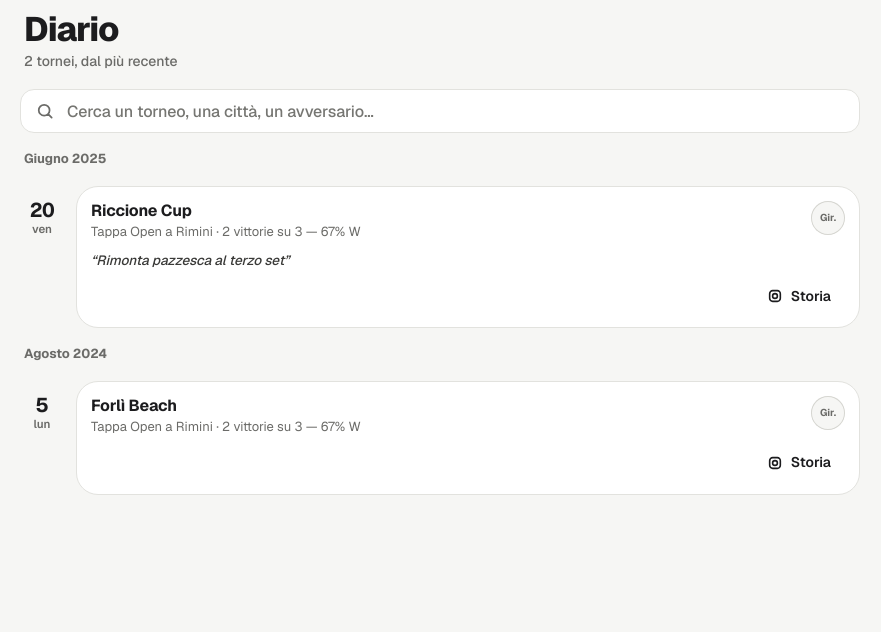
Test: Diario — sottotitolo con la ricerca › conta i risultati e ripete il termine
The image size is (881, 632).
Expected: the link "Riccione Cup" is shown, [91,200,192,221]
Click the search field named "Cerca nel diario".
click(435, 111)  # box [65,90,805,132]
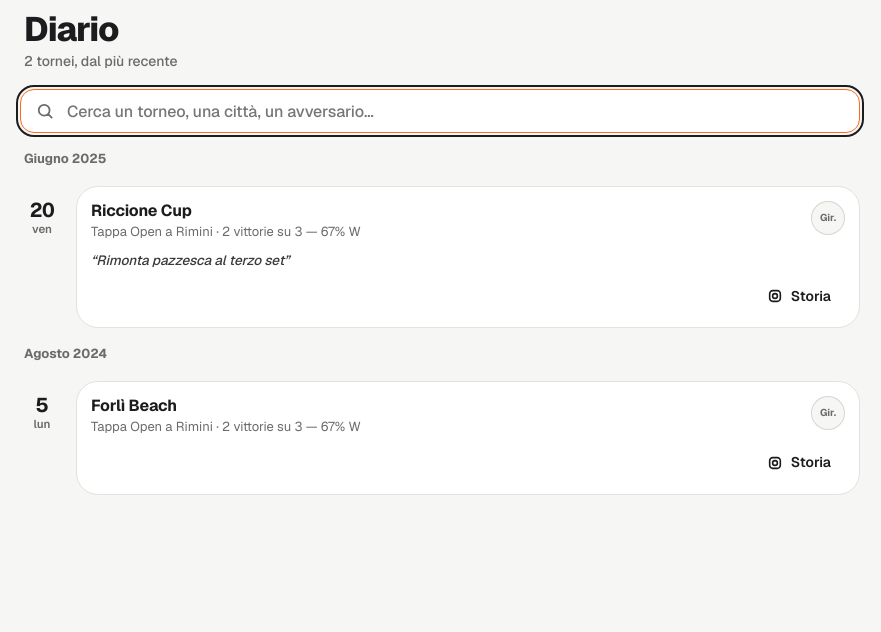
Type keys "girone"
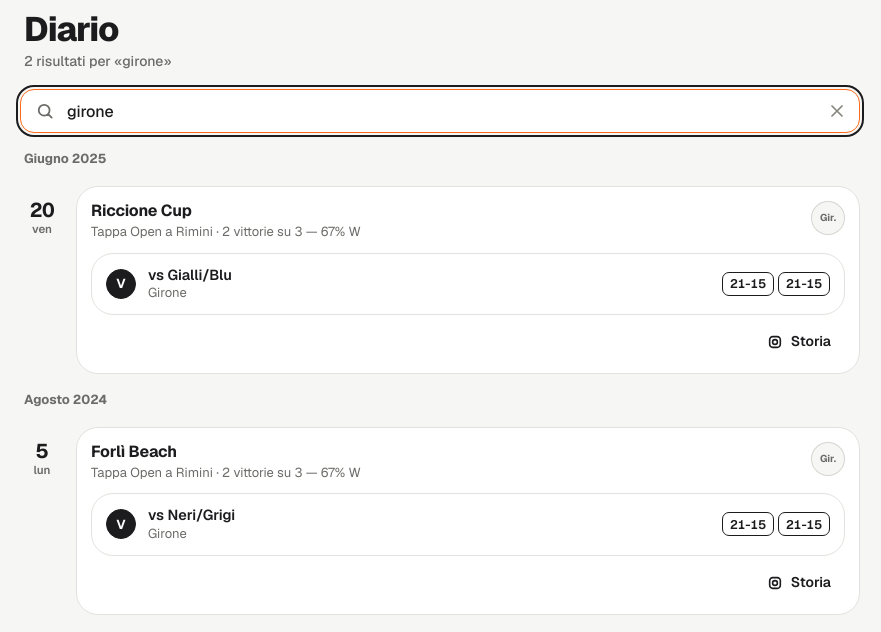
Expected: the message reads "2 risultati per «girone»", [24,52,172,70]
